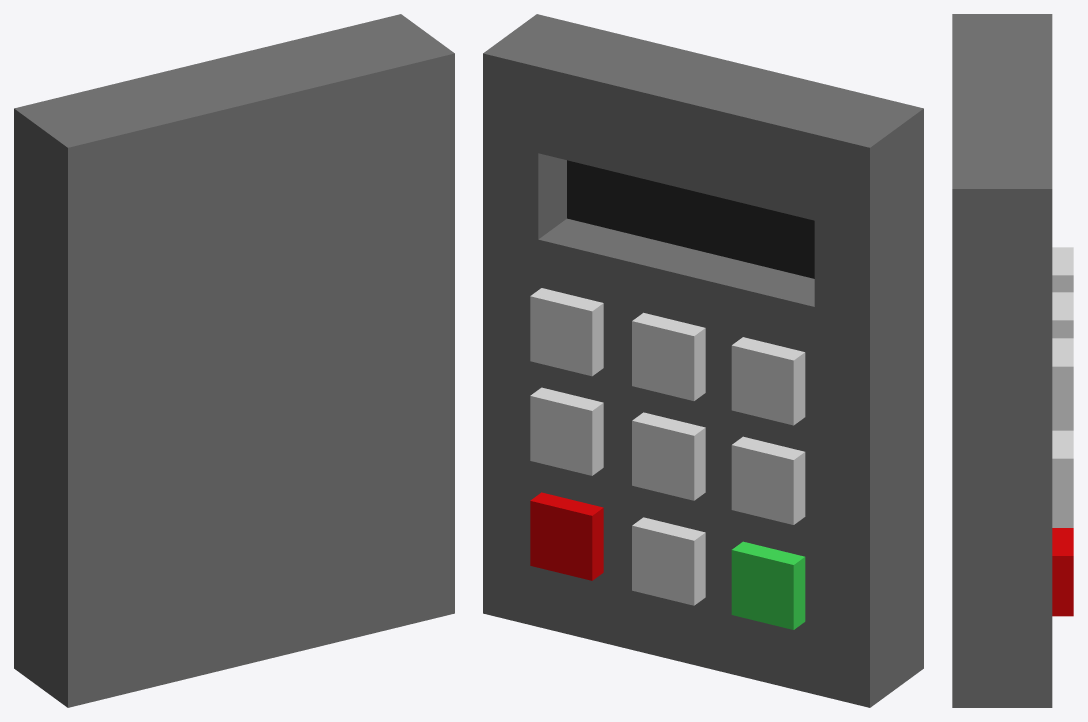
Rendered from keypad.fbx.
3 renders of one model, left to right at view 1: azimuth 30°, elevation 25°; view 2: azimuth 150°, elevation 25°; view 3: azimuth 270°, elevation 25°, orthographic. The views are drawn at different scales.
Visible parts, largest first — view 1: Cube; view 2: Cube; view 3: Cube.
Boxes of the visible parts, box(x1,y1,x2,y2) form: Cube: box(14, 14, 454, 707); Cube: box(483, 14, 923, 707); Cube: box(952, 14, 1073, 707).
Size of the model in its own units: 200 by 277 by 58.45.
